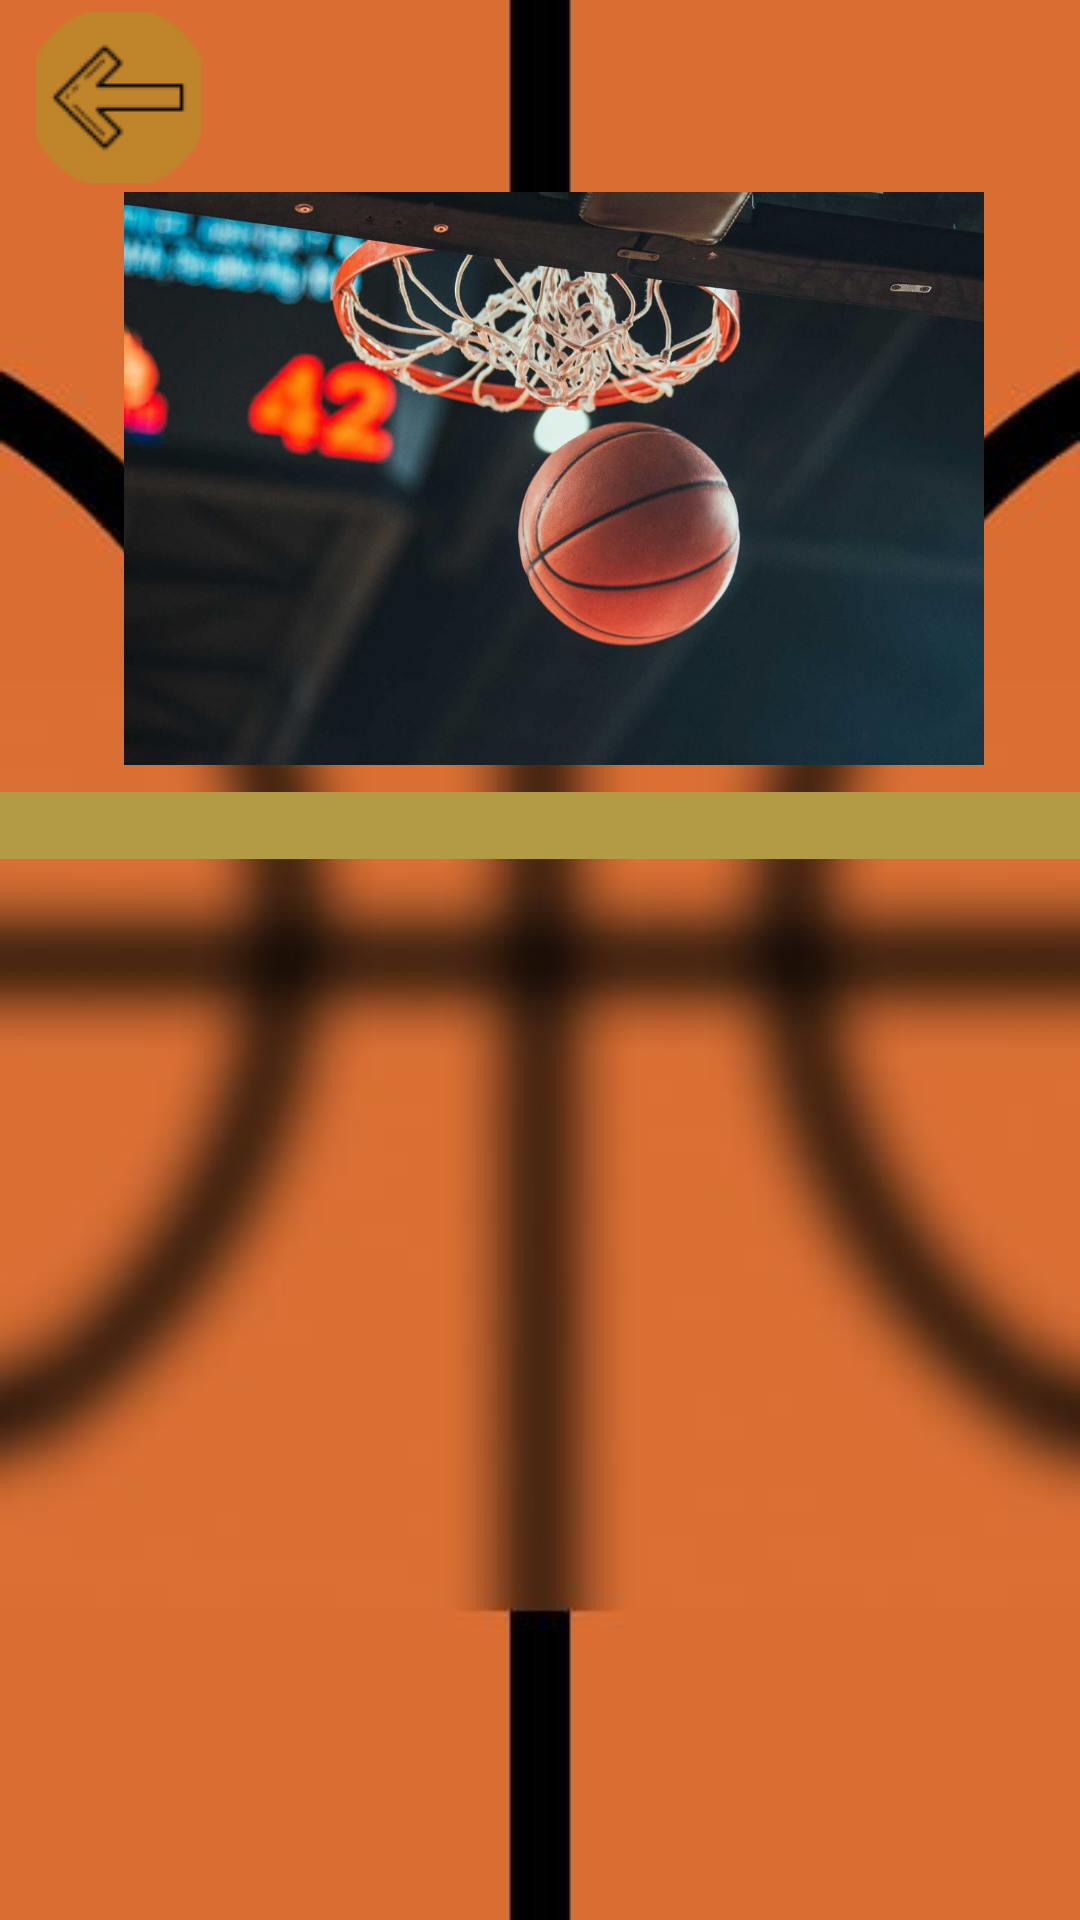

Icons on this 1080 × 1920 Android screen, each with the point to tap as (x,y):
strelka: (118,97)
